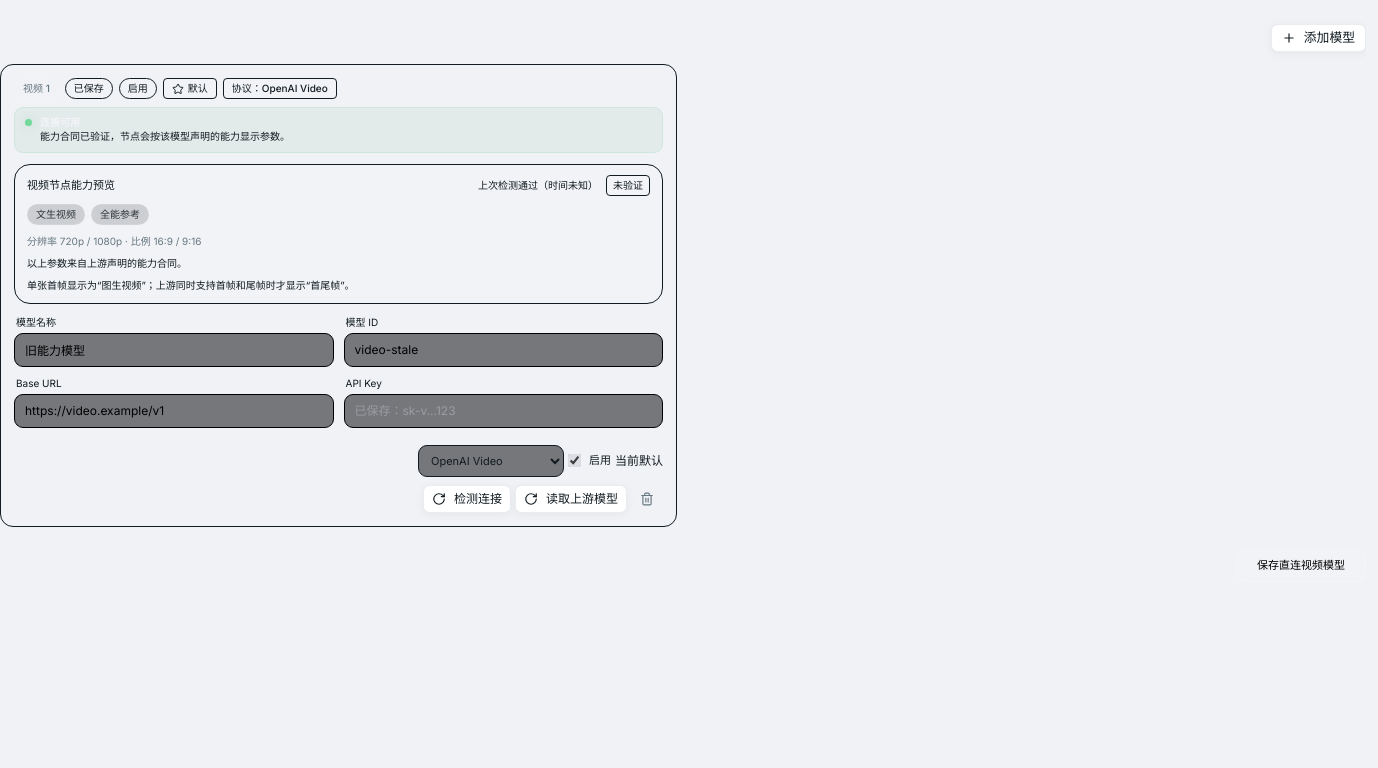
Village direct non-video model panel › does not revive saved presets after a probe explicitly returns empty enums
Click the button "检测连接": {"x": 467, "y": 498} [423, 484, 511, 512]
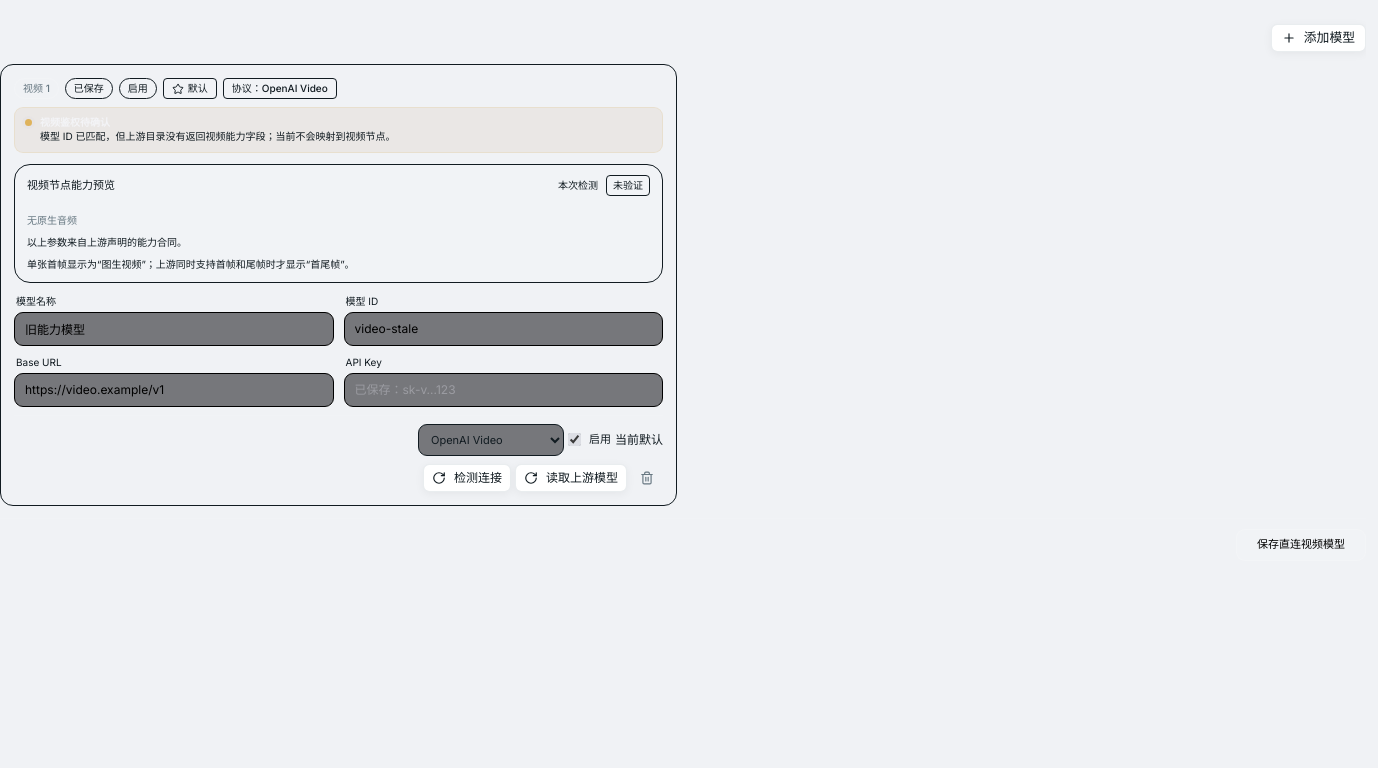
Expected: the text "本次检测" is shown, [558, 178, 598, 192]
Expected: the text "文生视频" is gone
Expected: the text "全能参考" is gone
